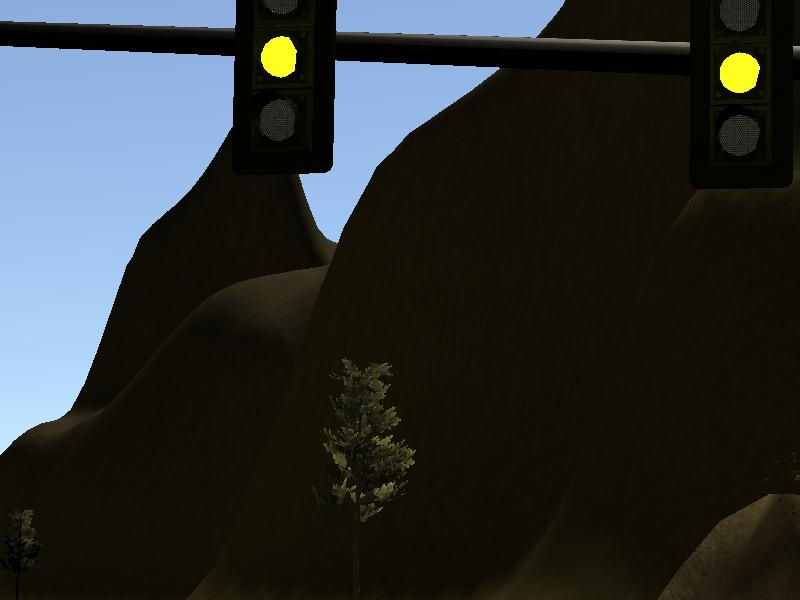yellow: (684, 1, 797, 193), (227, 1, 342, 180)
